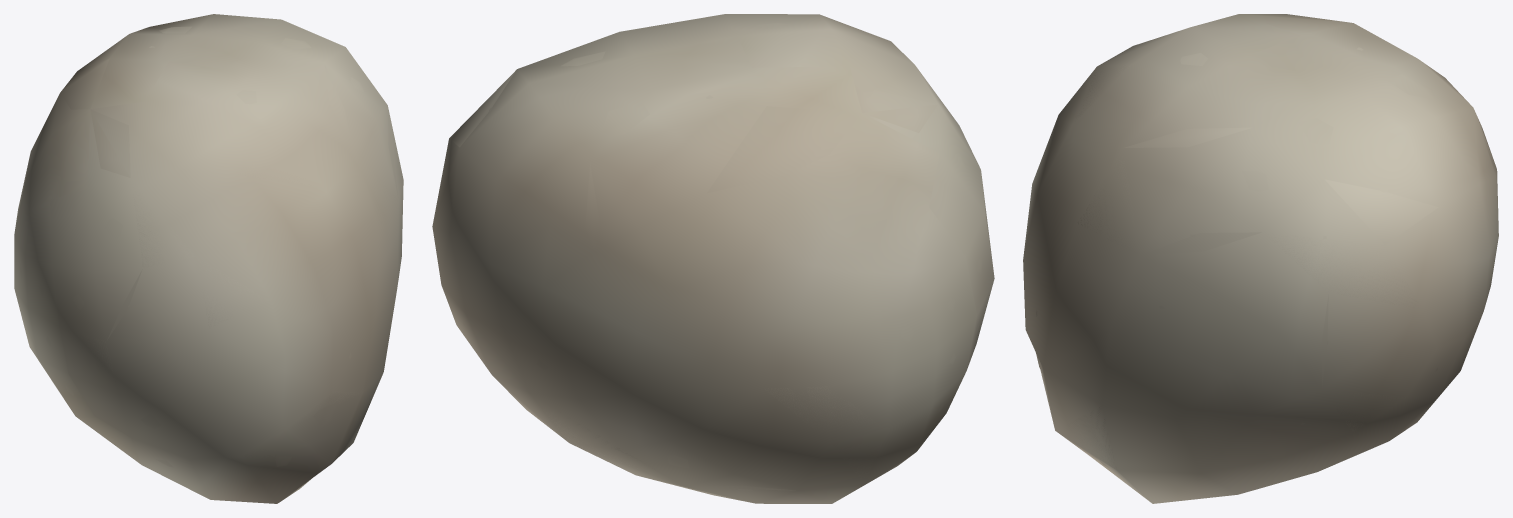
Rendered from L carpi ulnare.fbx.
3 renders of one model, left to right at view 1: azimuth 30°, elevation 25°; view 2: azimuth 150°, elevation 25°; view 3: azimuth 270°, elevation 25°, orthographic. The views are drawn at different scales.
Parts seen in each view (by area): view 1: L carpi ulnare, L carpi ulnare low, L carpi ulnare high; view 2: L carpi ulnare, L carpi ulnare low, L carpi ulnare high; view 3: L carpi ulnare, L carpi ulnare low, L carpi ulnare high.
Boxes of the visible parts, x1,y1,x2,y2 form: L carpi ulnare: (14,14,403,503); L carpi ulnare low: (60,59,398,462); L carpi ulnare high: (19,26,400,467); L carpi ulnare: (432,14,994,503); L carpi ulnare low: (449,69,993,494); L carpi ulnare high: (463,22,982,490); L carpi ulnare: (1023,14,1498,503); L carpi ulnare low: (1064,65,1496,468); L carpi ulnare high: (1036,47,1438,467).
Size of the model in its own units: 0.2696 by 0.2678 by 0.2656.
Materials: 1 (1 with a texture image).
